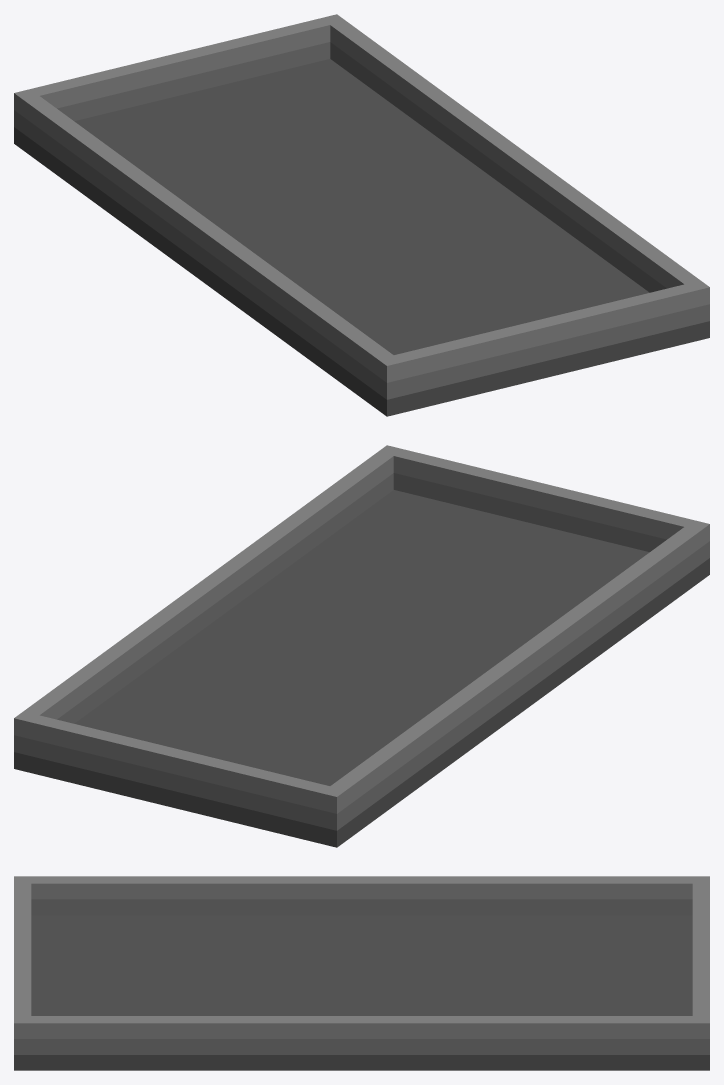
The model's file is Tray.obj.
3 views of the same model, one above another, from view 1: azimuth 30°, elevation 25°; view 2: azimuth 150°, elevation 25°; view 3: azimuth 270°, elevation 25° (orthographic). The views are drawn at different scales.
Size of the model in its own units: 20 by 3 by 40.
